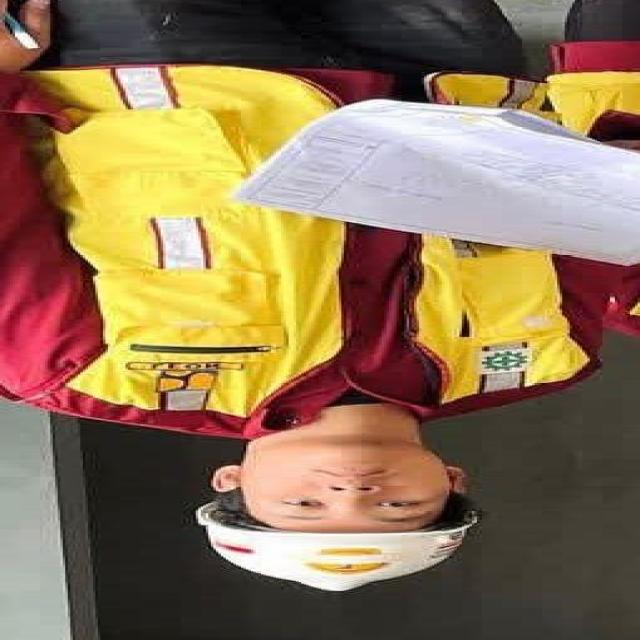safetyhelmet: (182, 459, 494, 596)
